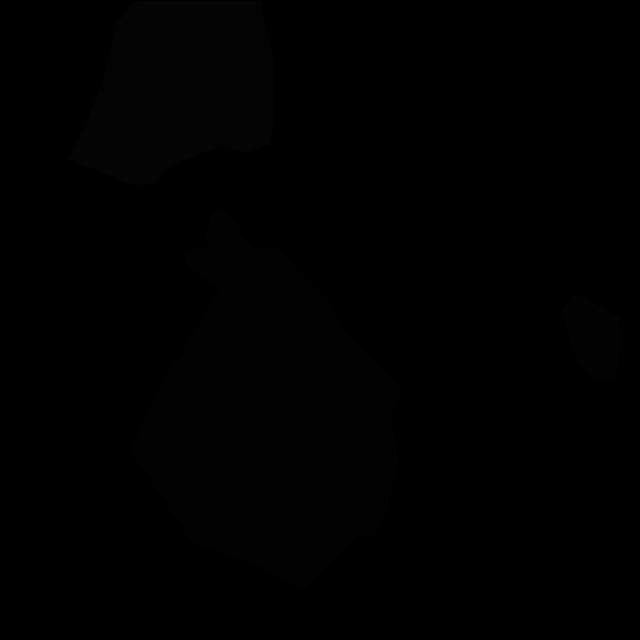cardboard: (130, 209, 404, 589)
metal: (562, 292, 622, 378)
soft_plastic: (69, 1, 275, 187)
